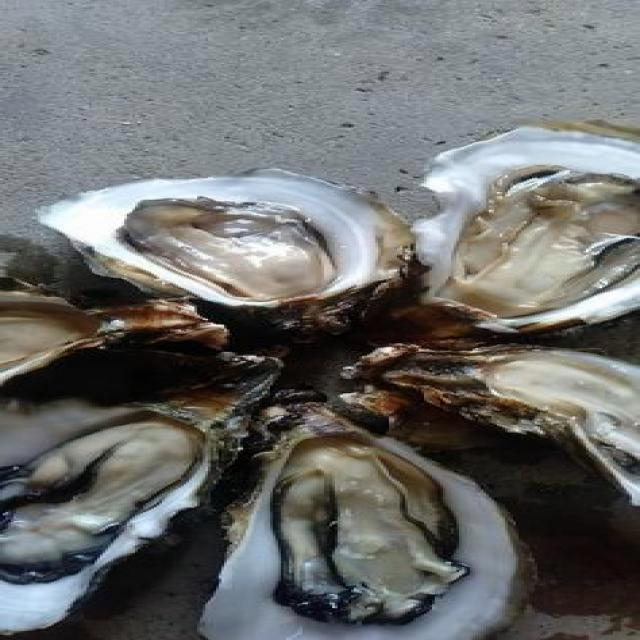Oyster-Open: (200, 388, 530, 640), (0, 363, 282, 635), (41, 168, 418, 334), (411, 119, 640, 335), (351, 342, 640, 506), (1, 283, 227, 382)
